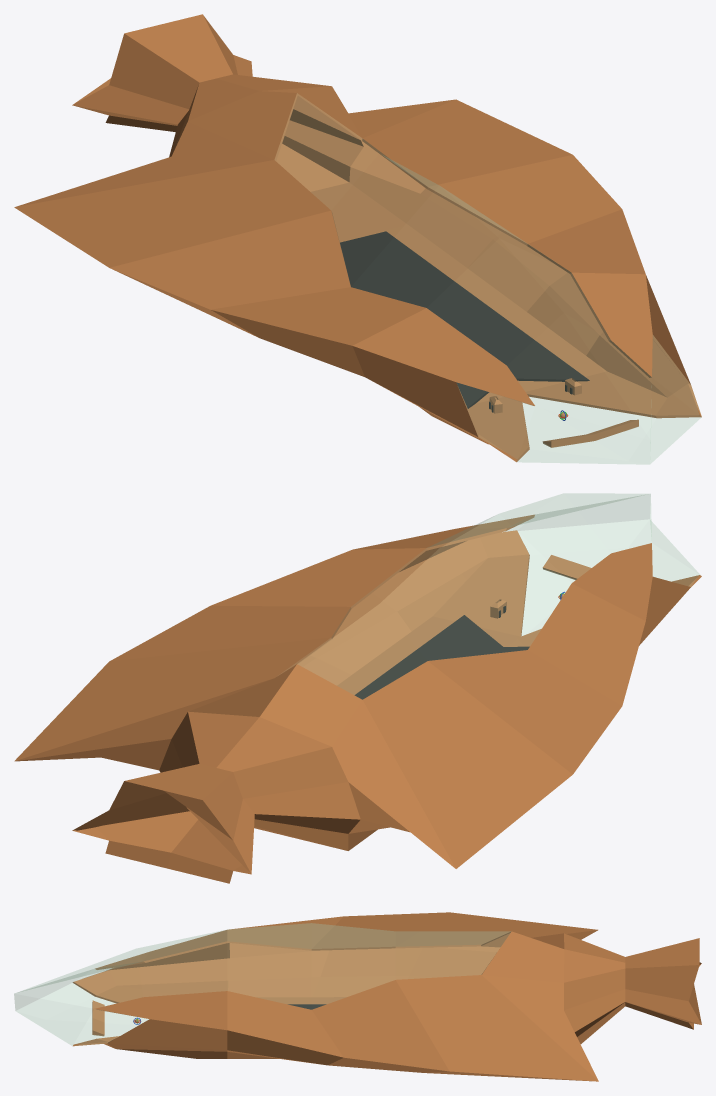
The model's file is ship_guest.glb.
3 views of the same model, one above another, from view 1: azimuth 30°, elevation 25°; view 2: azimuth 150°, elevation 25°; view 3: azimuth 270°, elevation 25° (orthographic). The views are drawn at different scales.
Visible parts, largest first — view 1: ship_body, Ship_Canopy, Cube.001, Cube; view 2: ship_body, Ship_Canopy, Cube.001, Cube; view 3: ship_body, Ship_Canopy, Cube.
Boxes of the visible parts, x1,y1,x2,y2 form: ship_body: (14, 14, 701, 462); Ship_Canopy: (275, 93, 701, 464); Cube.001: (340, 231, 589, 408); Cube: (542, 419, 638, 447); ship_body: (14, 514, 701, 883); Ship_Canopy: (284, 493, 699, 698); Cube.001: (354, 615, 529, 699); Cube: (542, 555, 591, 579); ship_body: (72, 912, 701, 1081); Ship_Canopy: (14, 923, 510, 1045); Cube: (92, 1000, 104, 1036).
Size of the model in its own units: 8.87 by 2.86 by 16.2.
